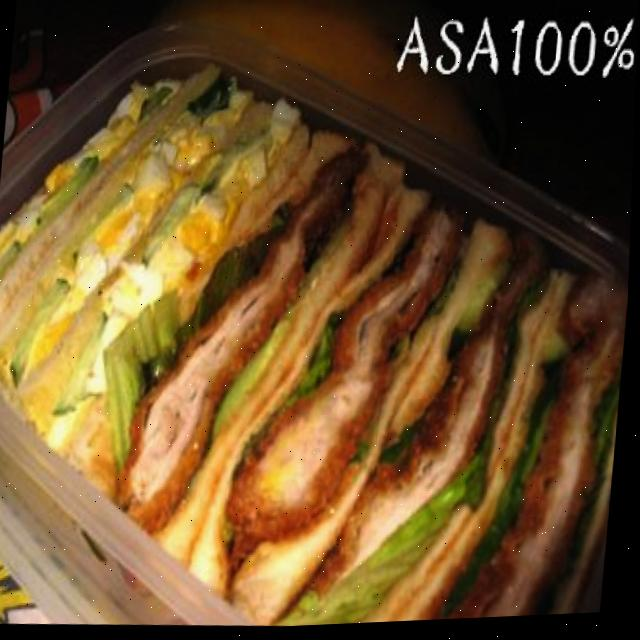三明治: (0, 59, 638, 640)
